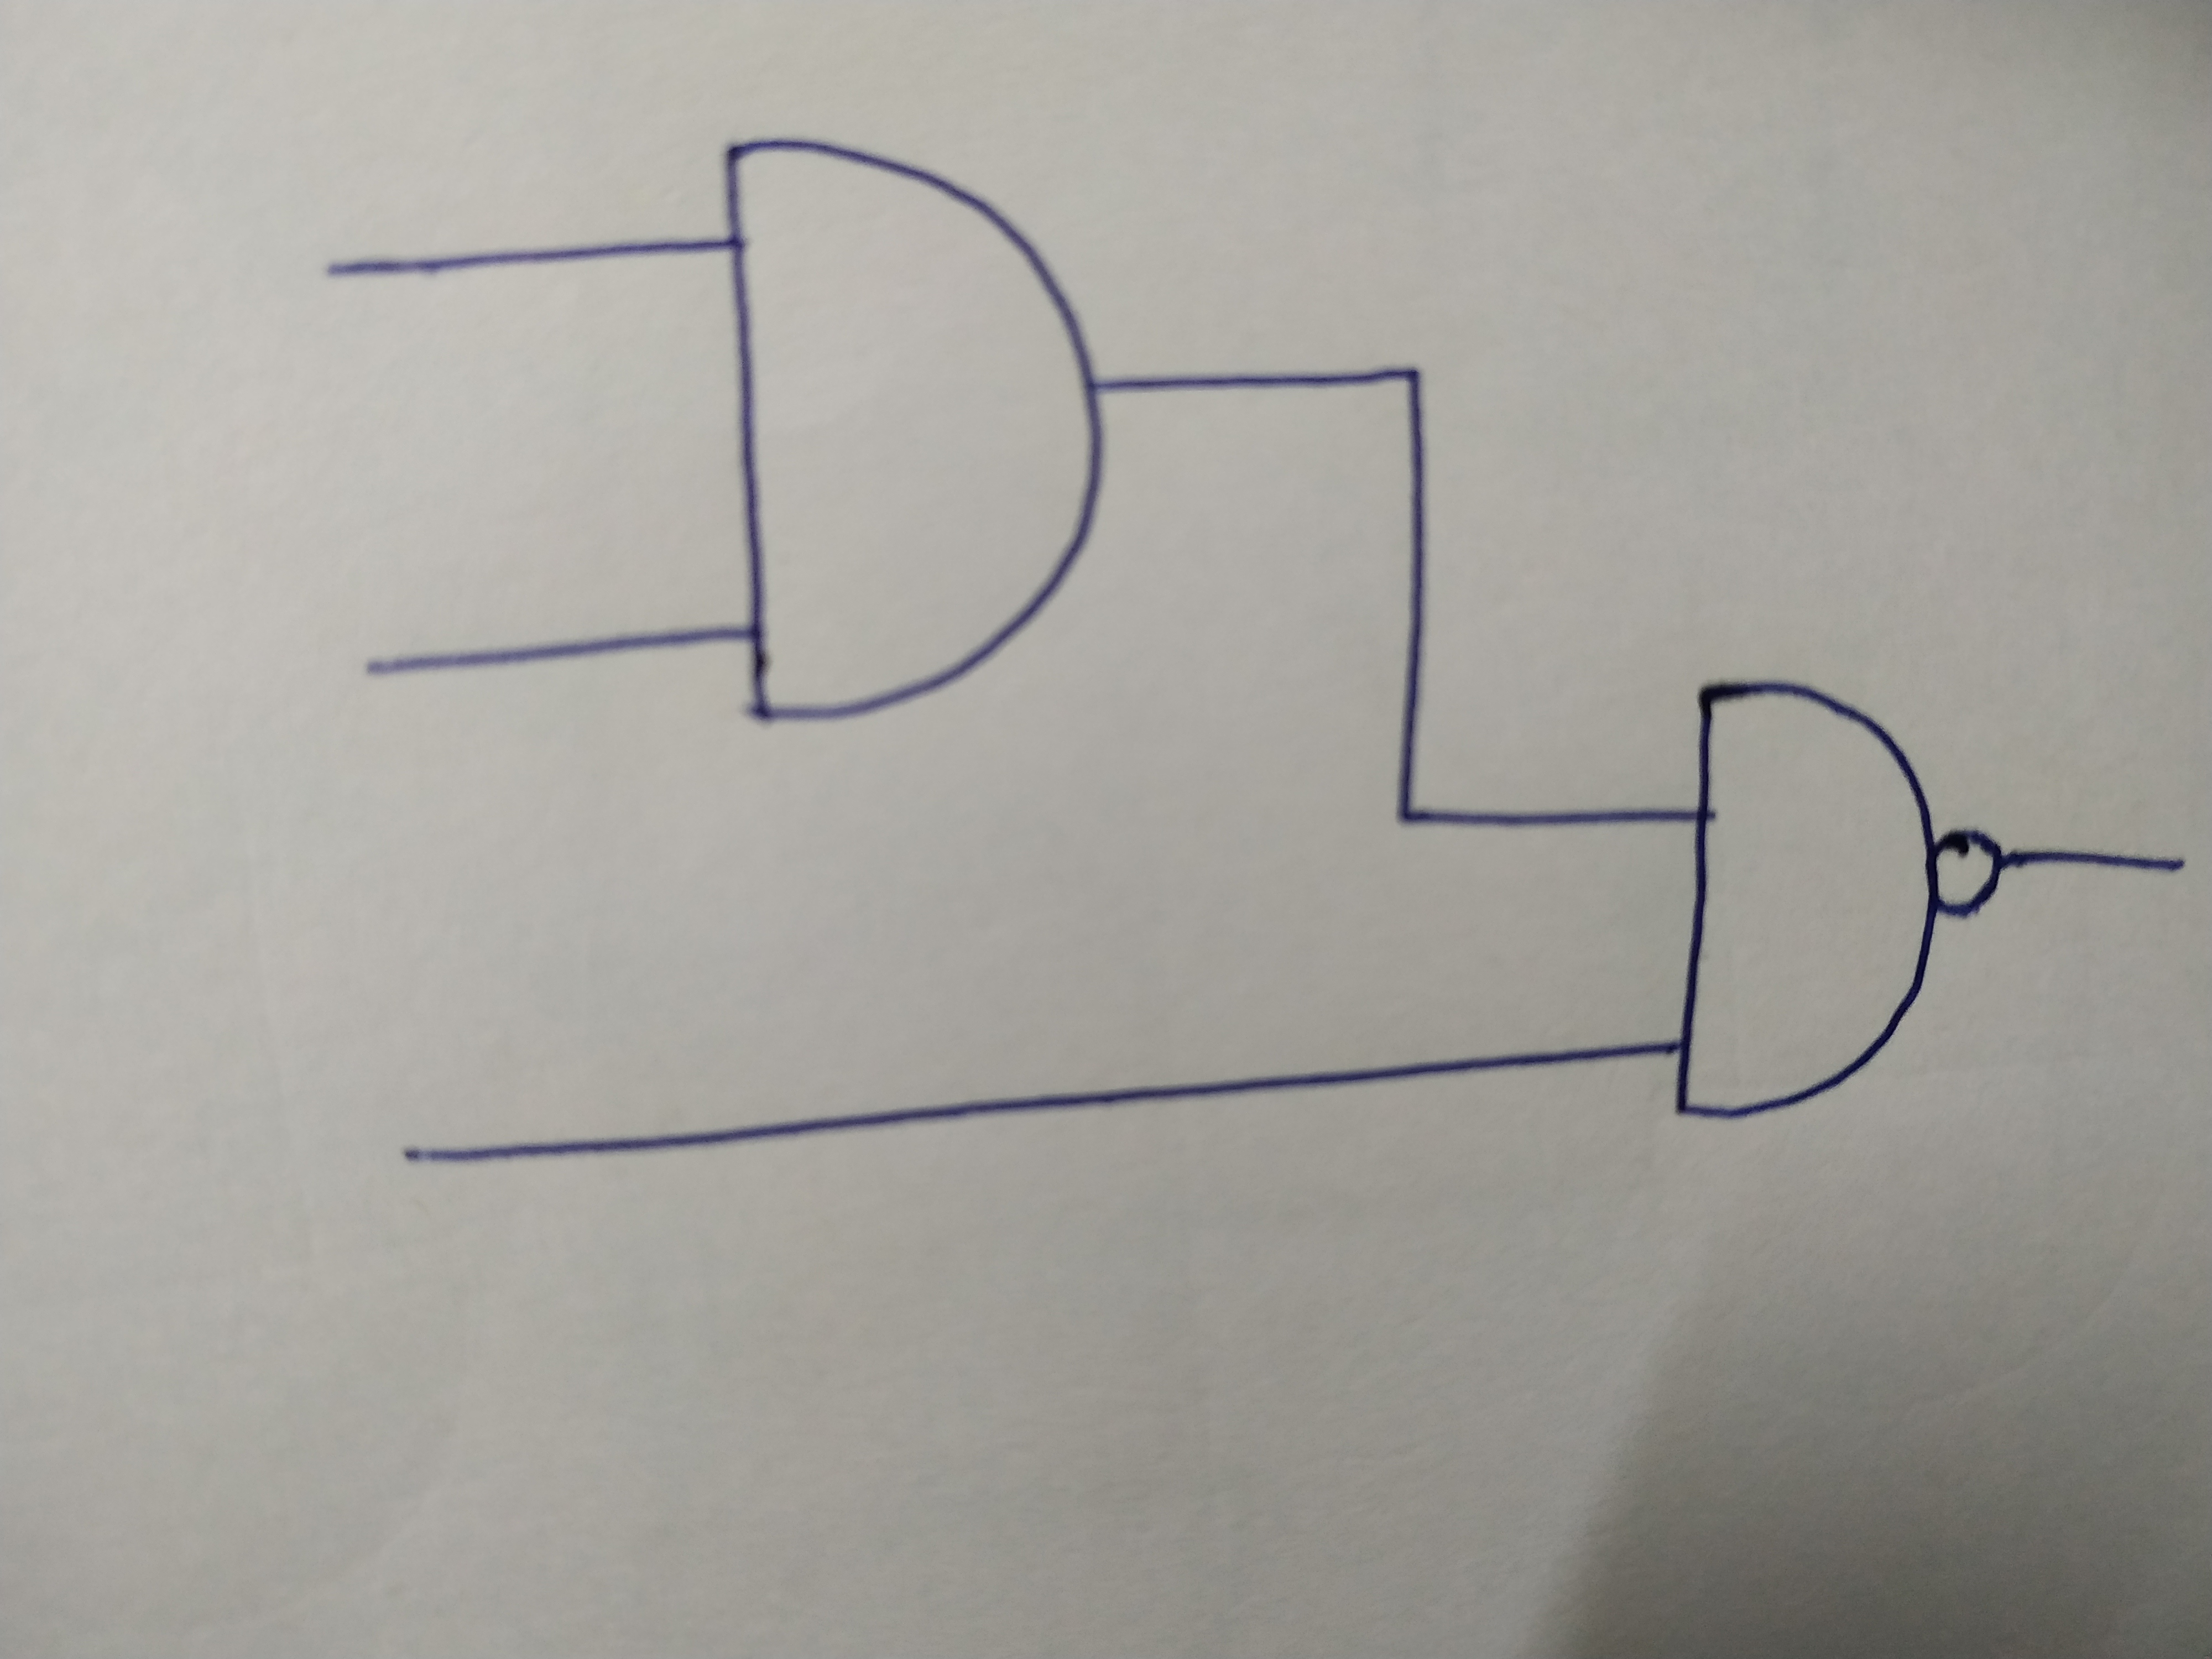and: (718, 136, 1104, 720), (1674, 681, 1933, 1119)
not: (1932, 824, 2000, 911)
